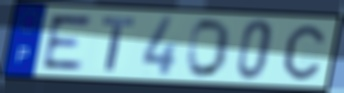0: (236, 19, 278, 83)
4: (139, 15, 180, 78)
C: (281, 23, 327, 82)
E: (41, 14, 94, 72)
O: (185, 17, 234, 80)
T: (100, 16, 137, 73)
